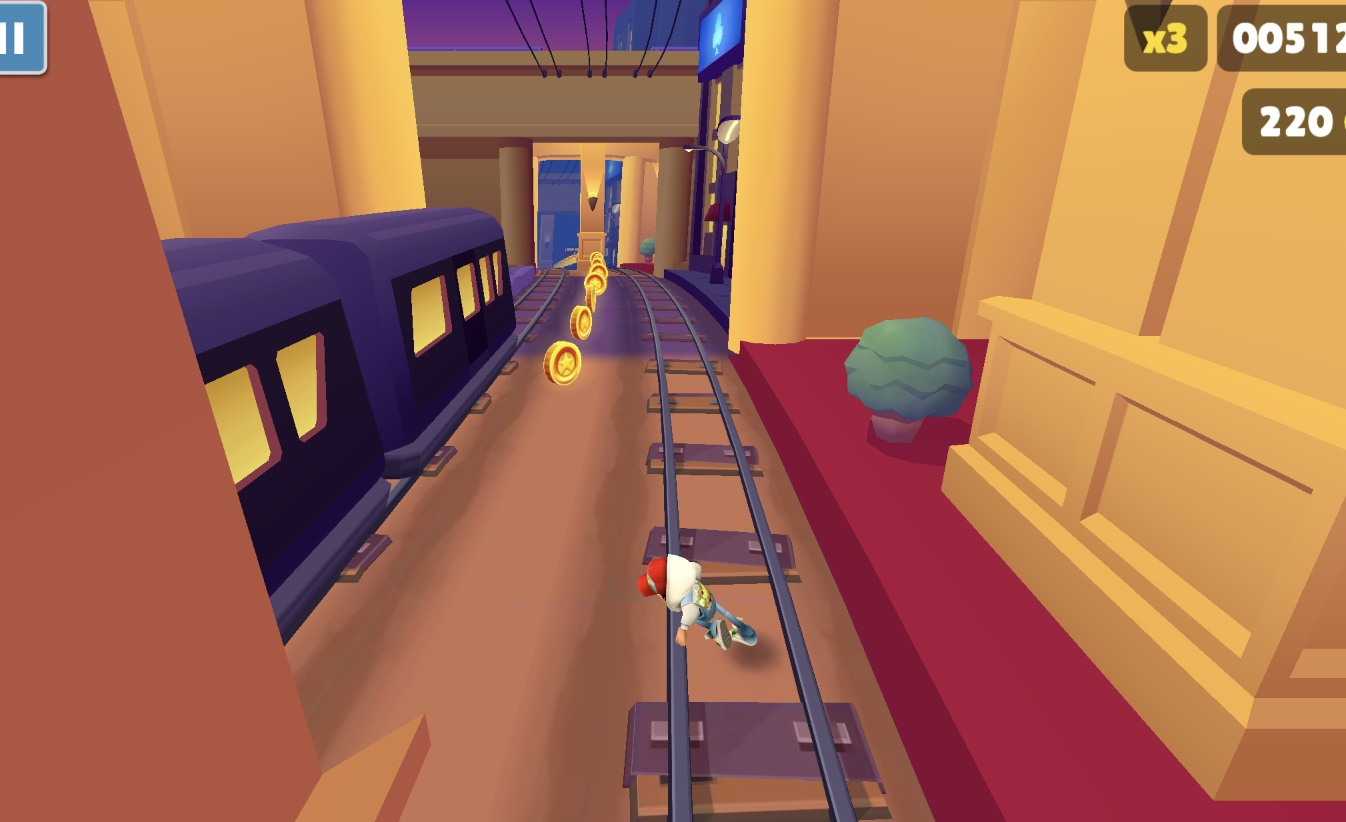pillar: (0, 0, 428, 822), (576, 148, 618, 272)
train: (106, 208, 508, 552)
